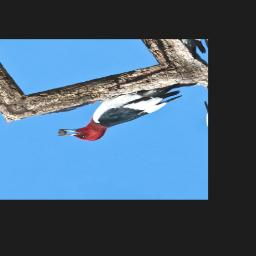Woodpecker: (52, 67, 188, 159)
